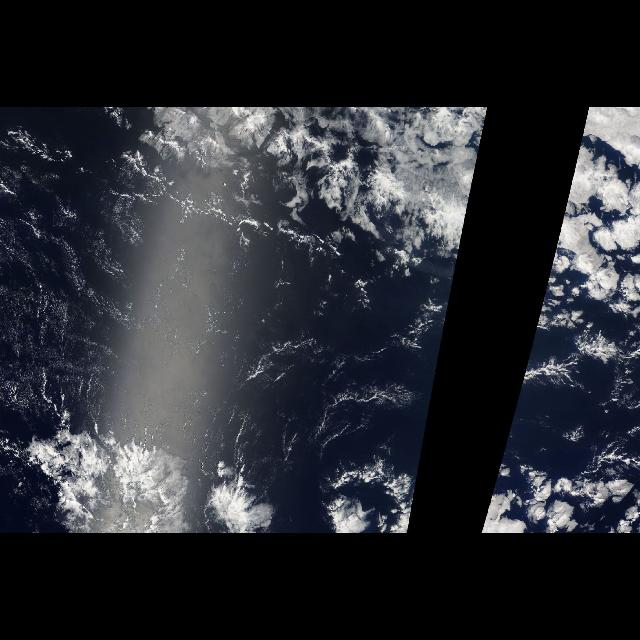Sugar: (19, 244, 421, 428)
